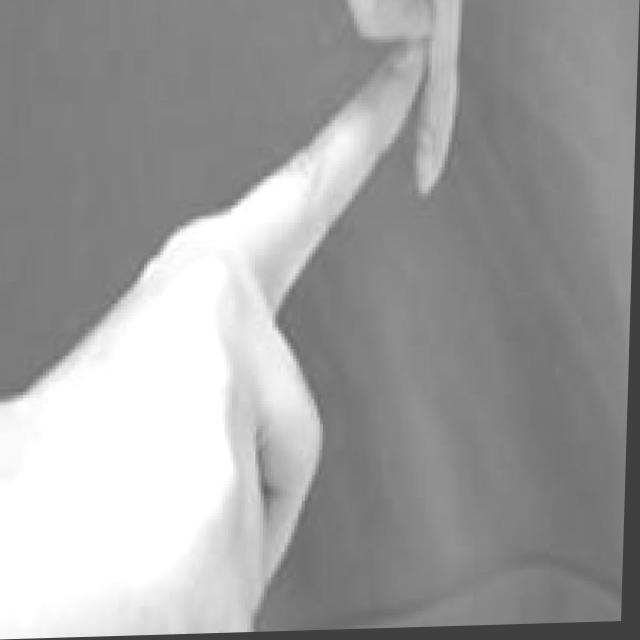R: (95, 0, 542, 637)
